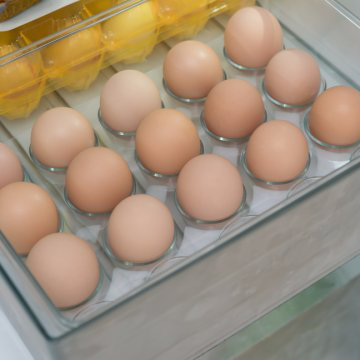egg: (1, 4, 360, 311)
